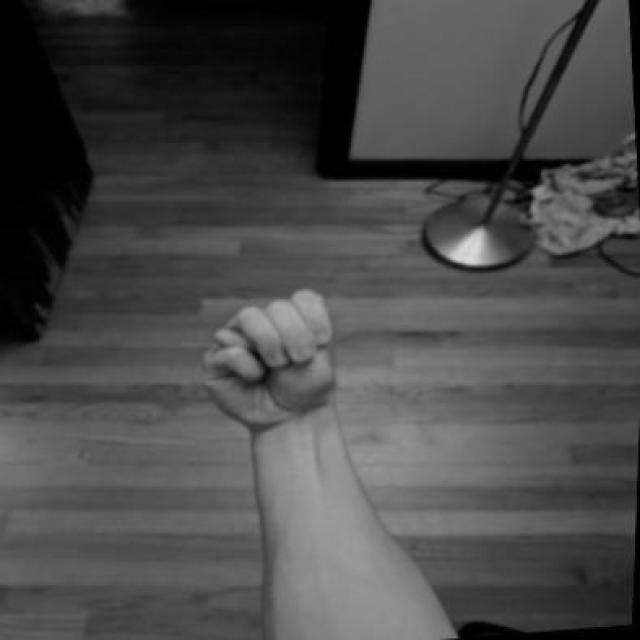M: (189, 281, 361, 440)
